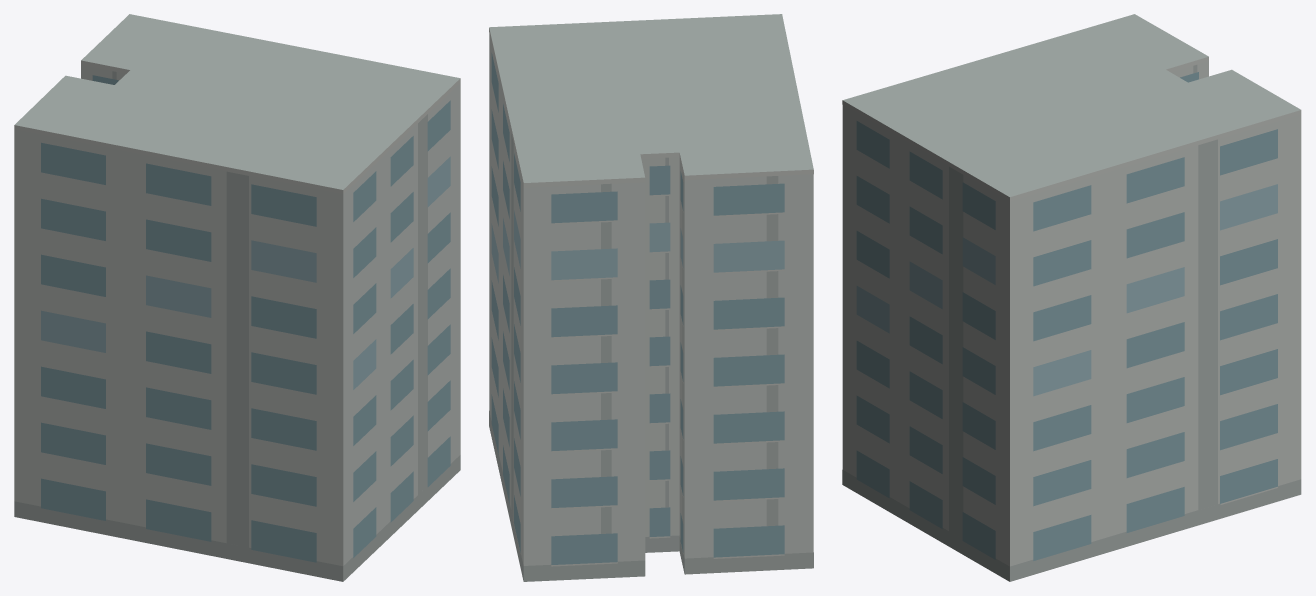
File: survey-upis-32666021.glb
3 renders of one model, left to right at view 1: azimuth 30°, elevation 25°; view 2: azimuth 150°, elevation 25°; view 3: azimuth 270°, elevation 25°, orthographic. The views are drawn at different scales.
Parts seen in each view (by area): view 1: survey-upis-32666021.tmp; view 2: survey-upis-32666021.tmp; view 3: survey-upis-32666021.tmp.
Part boxes in pixels (x1=…): survey-upis-32666021.tmp: x1=14, y1=14, x2=460, y2=581; survey-upis-32666021.tmp: x1=489, y1=14, x2=813, y2=581; survey-upis-32666021.tmp: x1=842, y1=14, x2=1301, y2=581.
Bounding box in the file's own units: 21.47 × 21 × 22.71.
